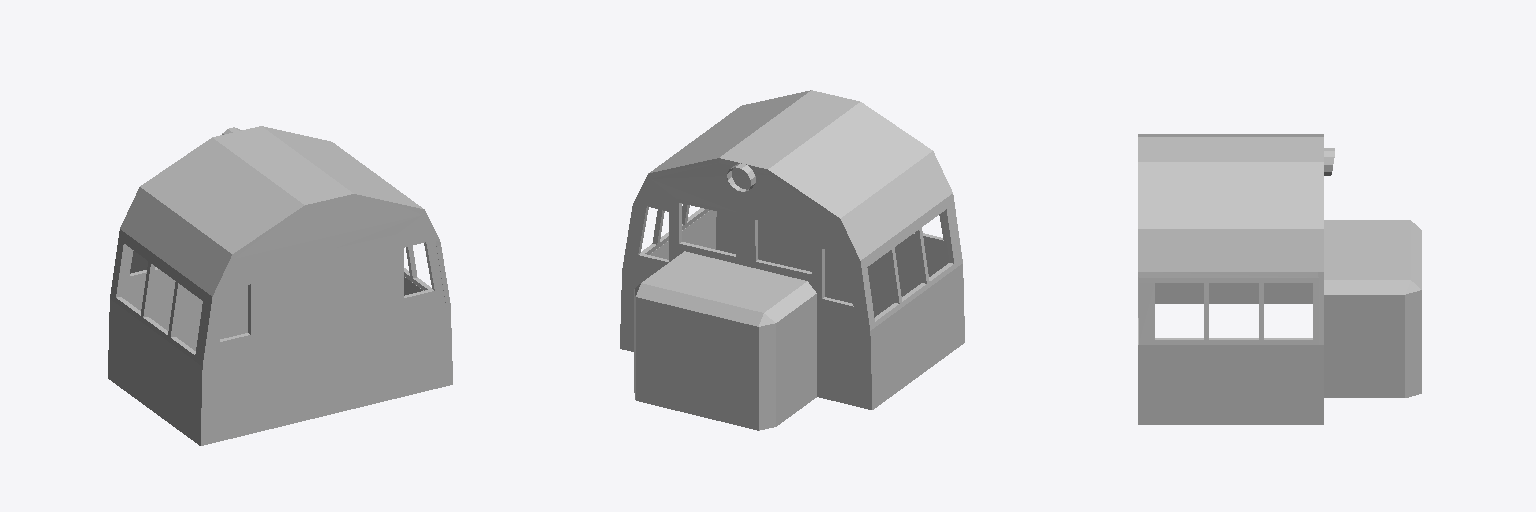
File: df7g_cab.obj
The picture shows the model from 3 angles: view 1: azimuth 30°, elevation 25°; view 2: azimuth 150°, elevation 25°; view 3: azimuth 270°, elevation 25°; orthographic projection.
Visible parts, largest first — view 1: df7g_cab; view 2: df7g_cab; view 3: df7g_cab.
Part boxes in pixels (left/top/right/bottom): df7g_cab: left=108, top=126, right=452, bottom=445; df7g_cab: left=620, top=90, right=964, bottom=430; df7g_cab: left=1138, top=134, right=1421, bottom=424.
Size of the model in its own units: 3.34 by 2.73 by 3.25.